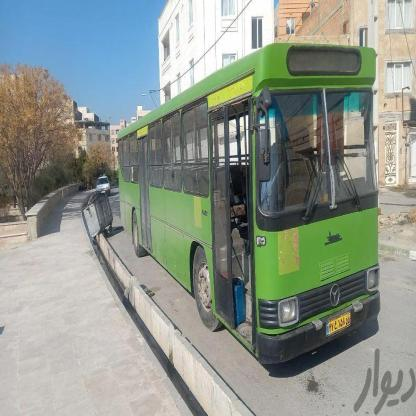Bus: (115, 46, 382, 374)
Car: (96, 174, 114, 201)
